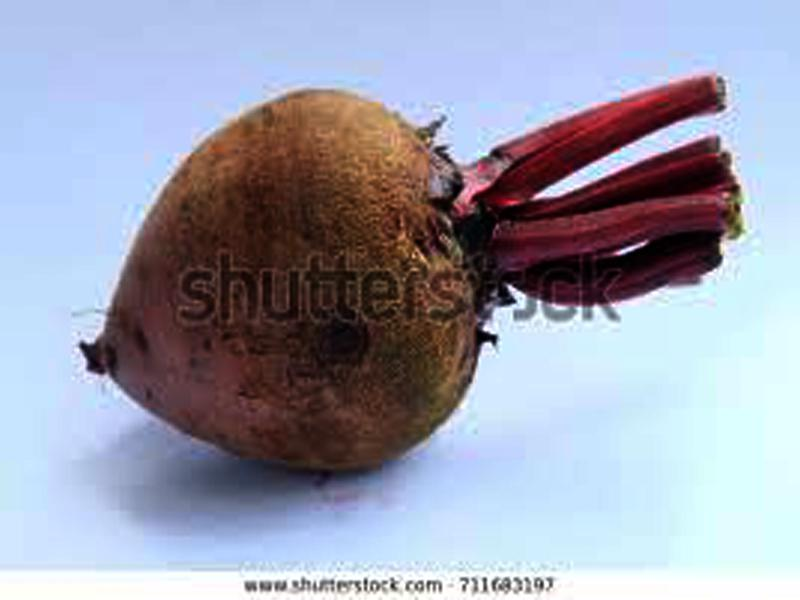Beet: (90, 83, 728, 469)
